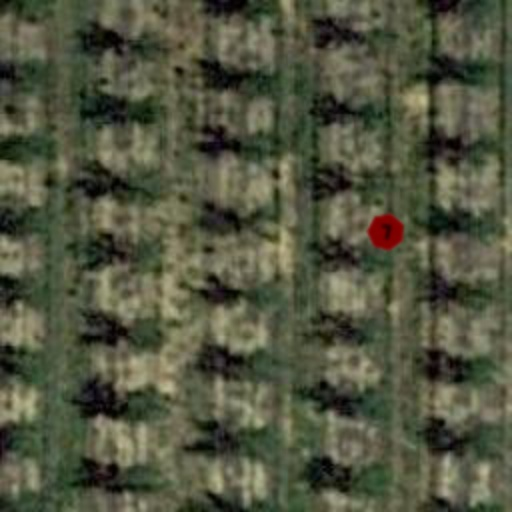heptagon: (366, 212, 406, 252)
